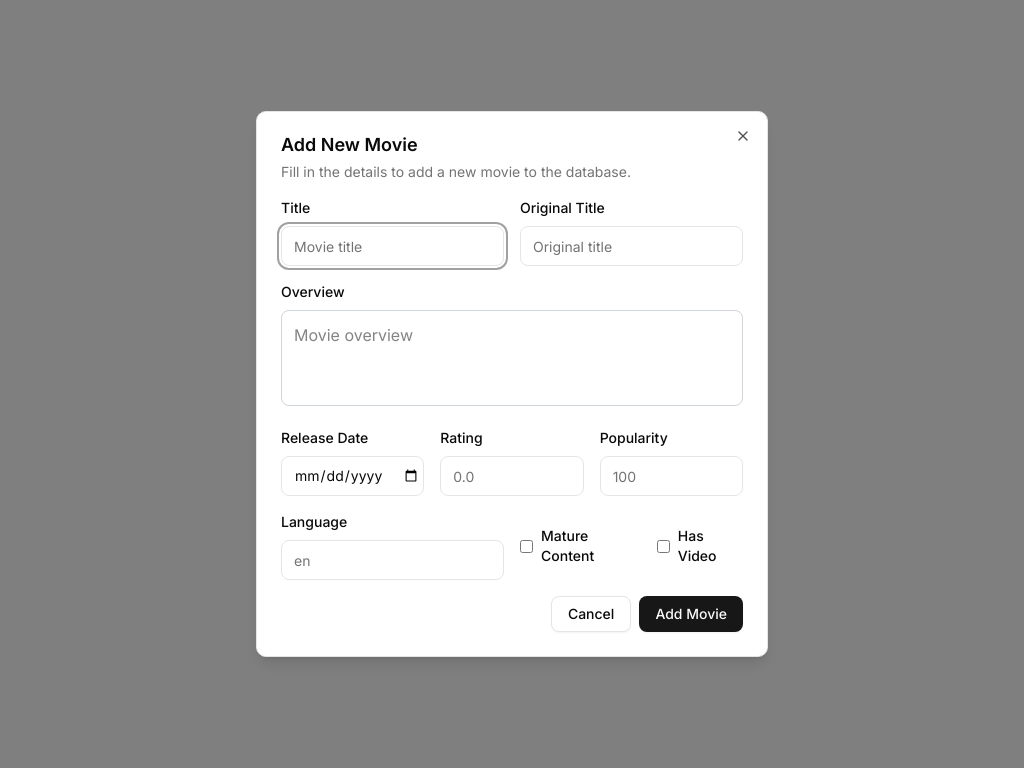
Test: MovieForm › should validate rating range
Type "11" into the number field with placeholder "0.0" at [512, 476], box 440,456 -> 584,496
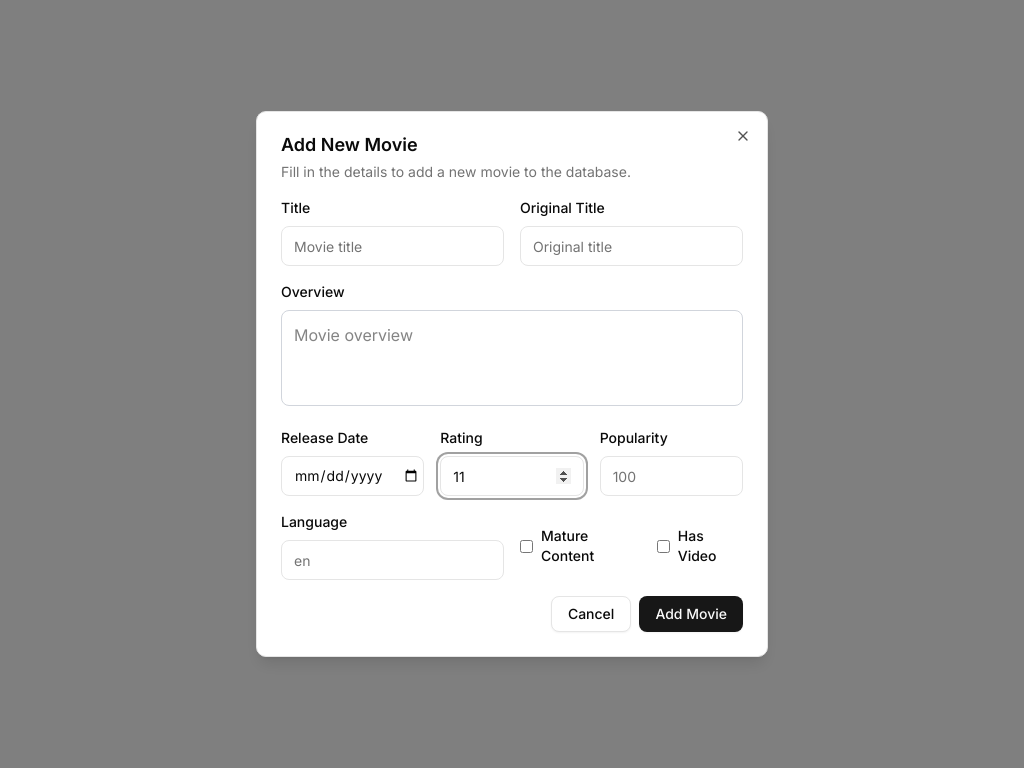
Click the button "Add Movie" at [691, 614], box 639,596 -> 743,632
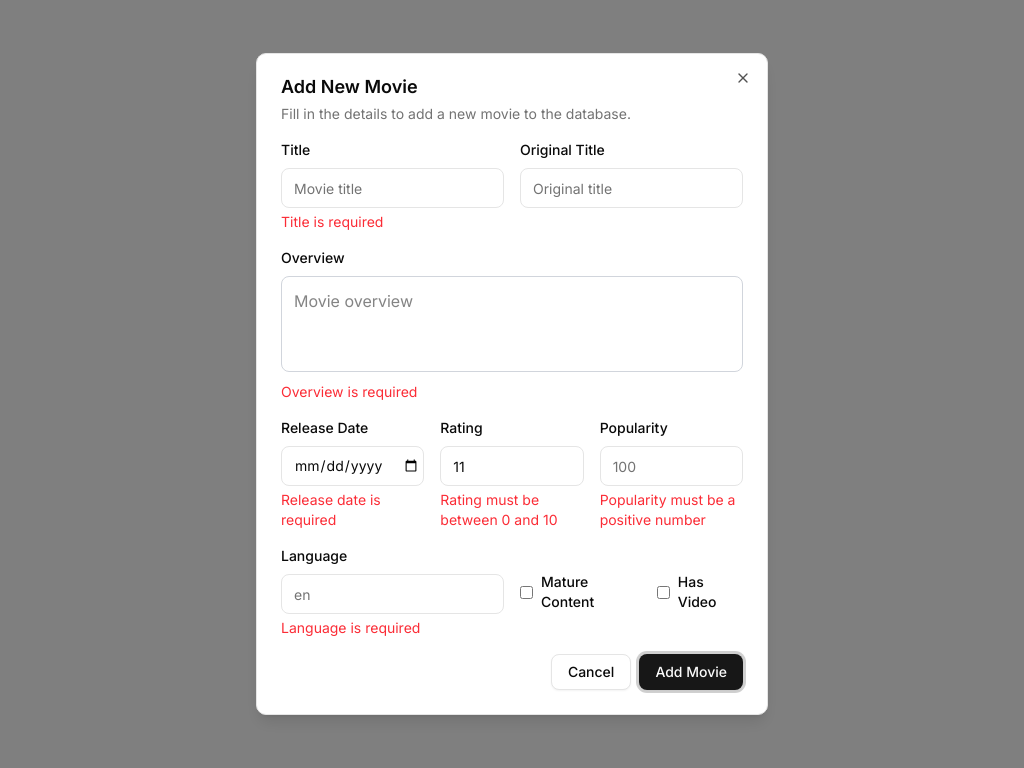
Expected: the text "Rating must be between 0 and 10" is shown, 440,491 -> 558,528
